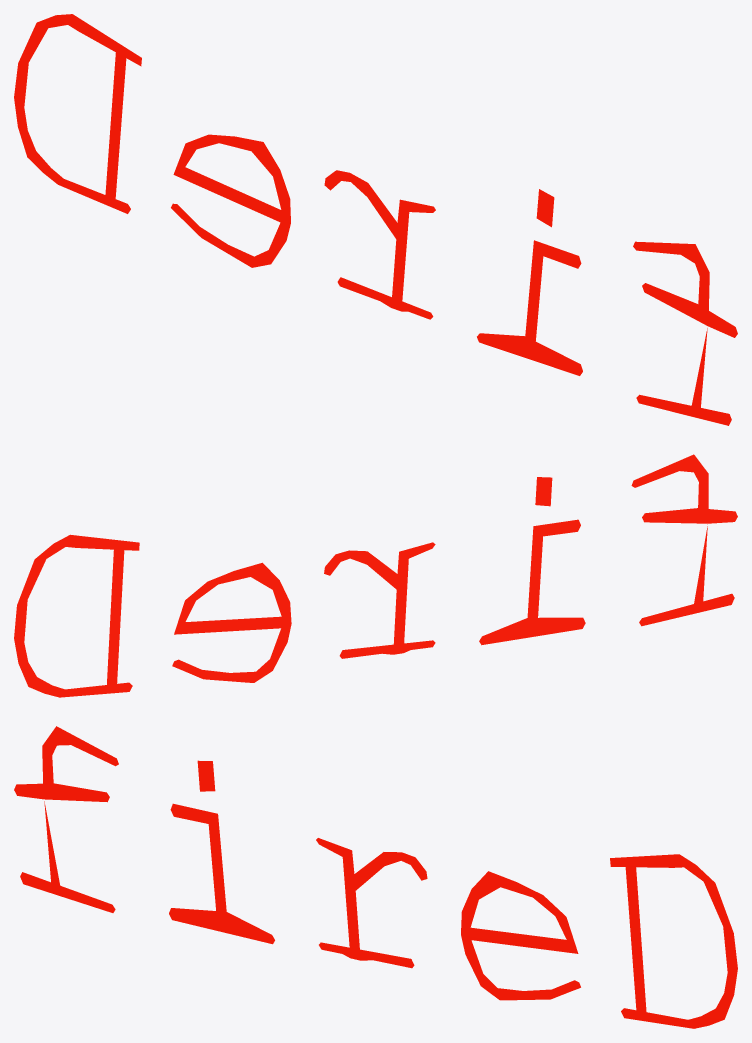
Rendered from title .fbx.
The picture shows the model from 3 angles, top to bottom: view 1: azimuth 90°, elevation 25°; view 2: azimuth 150°, elevation 25°; view 3: azimuth 270°, elevation 25°; orthographic projection. The views are drawn at different scales.
Visible parts, largest first — view 1: Plane.005; view 2: Plane.005; view 3: Plane.005.
Part boxes in pixels (box(x1,y1,x2,y2)): Plane.005: box(14, 14, 737, 425); Plane.005: box(14, 454, 737, 697); Plane.005: box(14, 726, 737, 1028).
Size of the model in its own units: 43.45 by 21.9 by 64.07.
